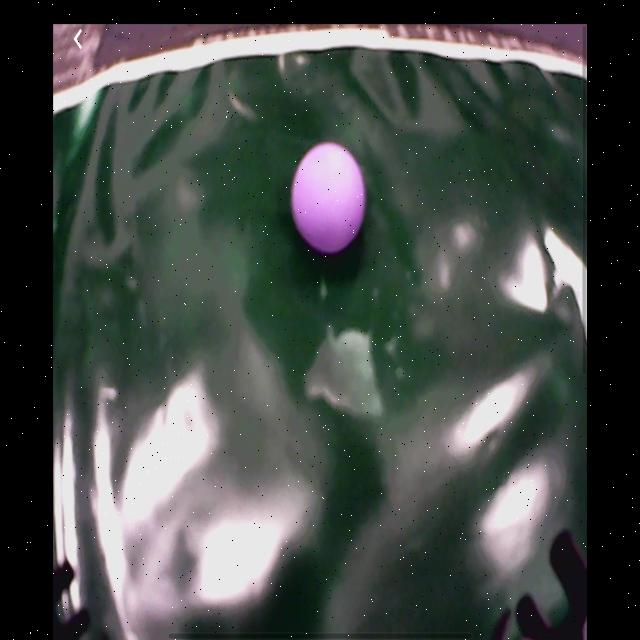ball: (293, 144, 368, 252)
